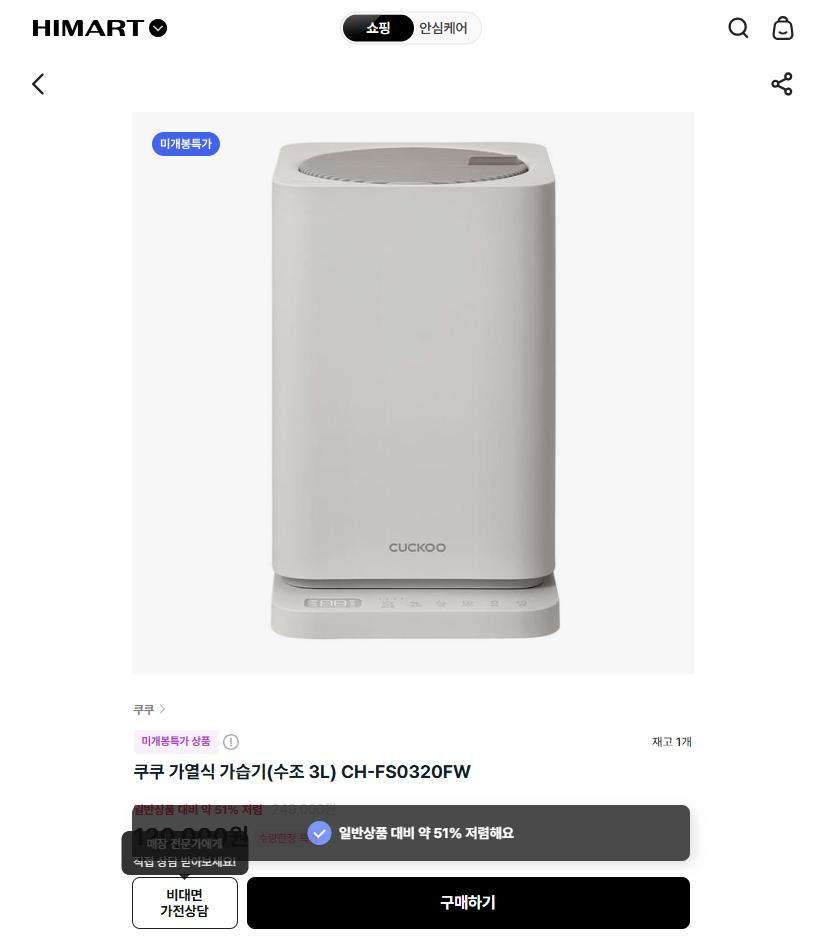button: (251, 877, 688, 928), (136, 880, 237, 926), (14, 66, 61, 112), (414, 14, 479, 47), (344, 14, 406, 47), (761, 66, 807, 107), (717, 13, 760, 48), (766, 10, 806, 44), (126, 699, 170, 727)
popup: (134, 803, 692, 866)
